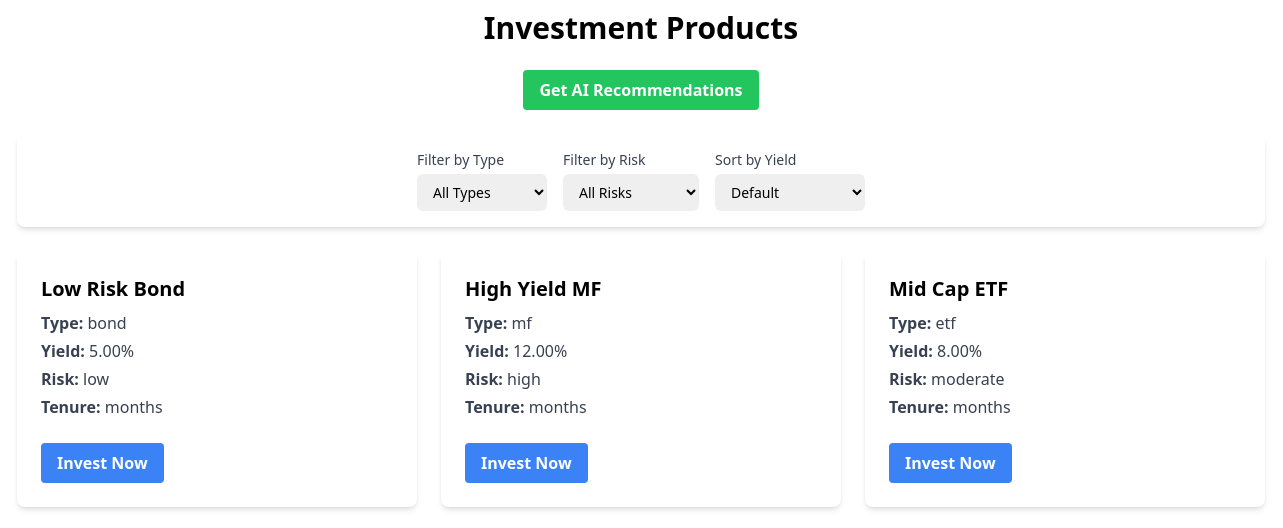
Test: ProductsPage › filters products by risk
The width and height of the screenshot is (1283, 528).
Expected: the heading "Low Risk Bond" is shown, [41,275,185,302]
Select "High" in the dropdown labelled "Filter by Risk" at (631,192), box [563,174,699,211]
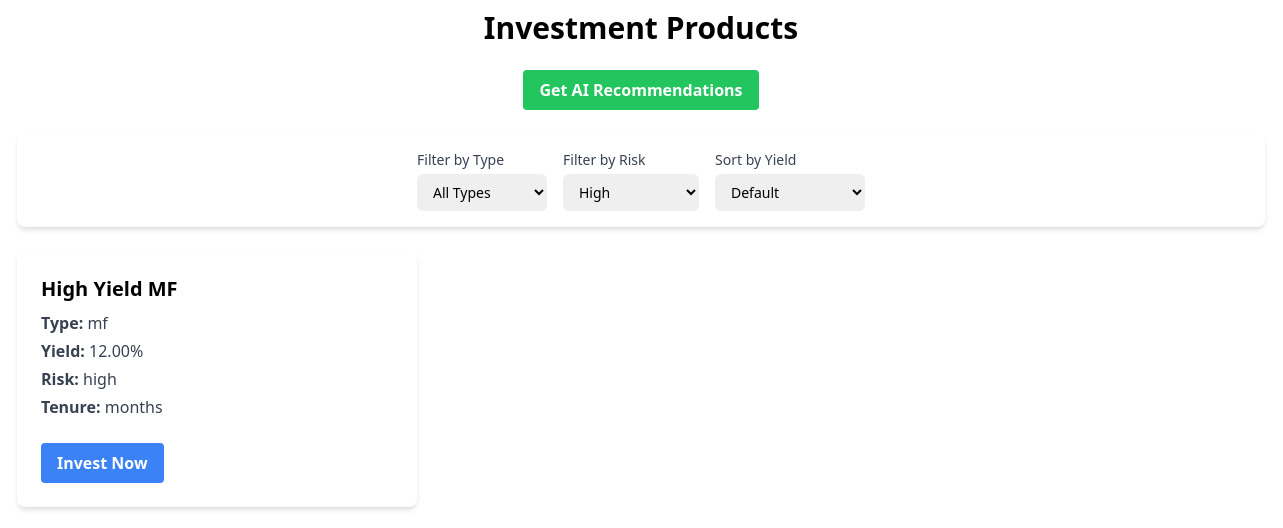
Expected: the heading "High Yield MF" is shown, [41,275,178,302]
Expected: the heading "Low Risk Bond" is gone
Expected: the heading "Mid Cap ETF" is gone
